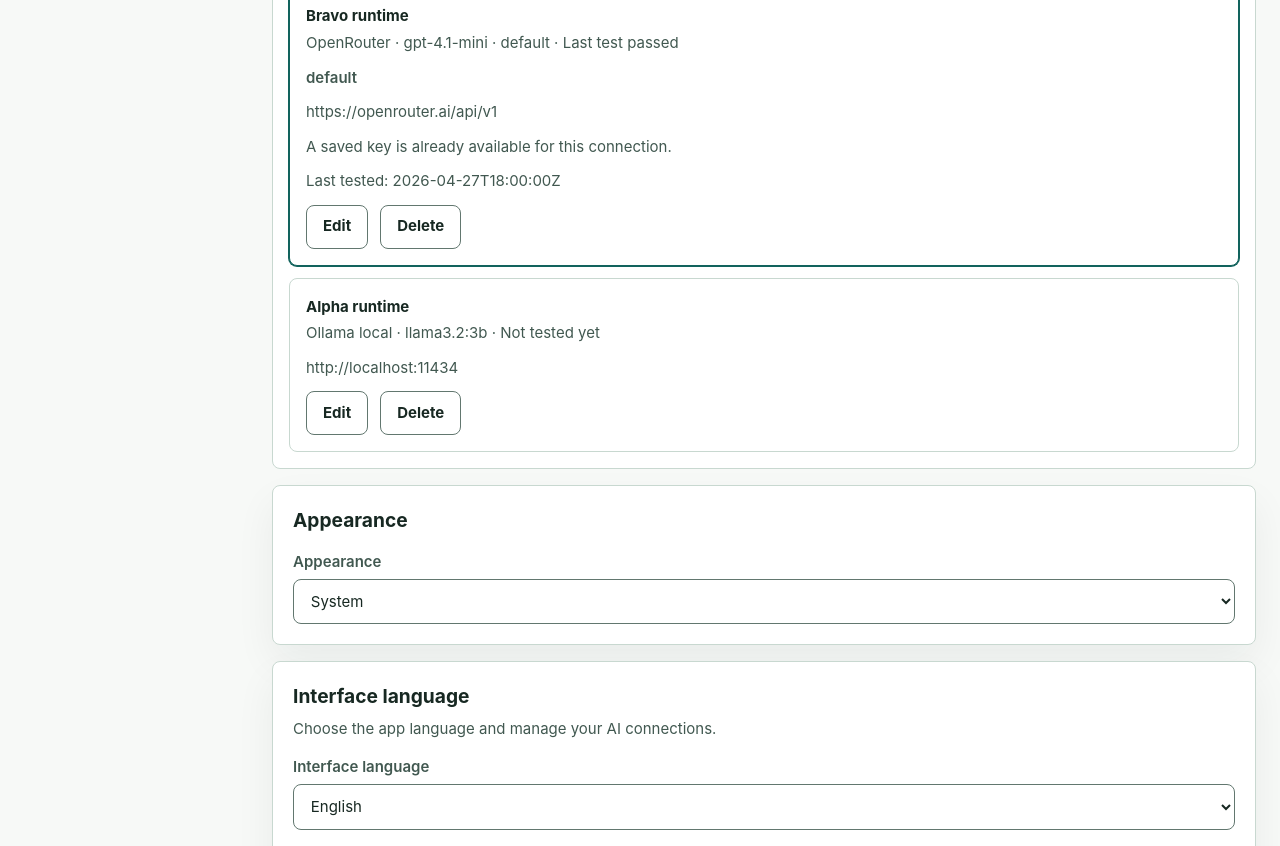
Scenario: Settings route › edits a chosen connection in Setup and returns to Settings after saving
The image size is (1280, 846).
(page scrolled)
Click the button with test id "settings.connection_row_edit" below "http://localhost:11434" at (337, 413), box [306, 391, 368, 435]
(page scrolled)
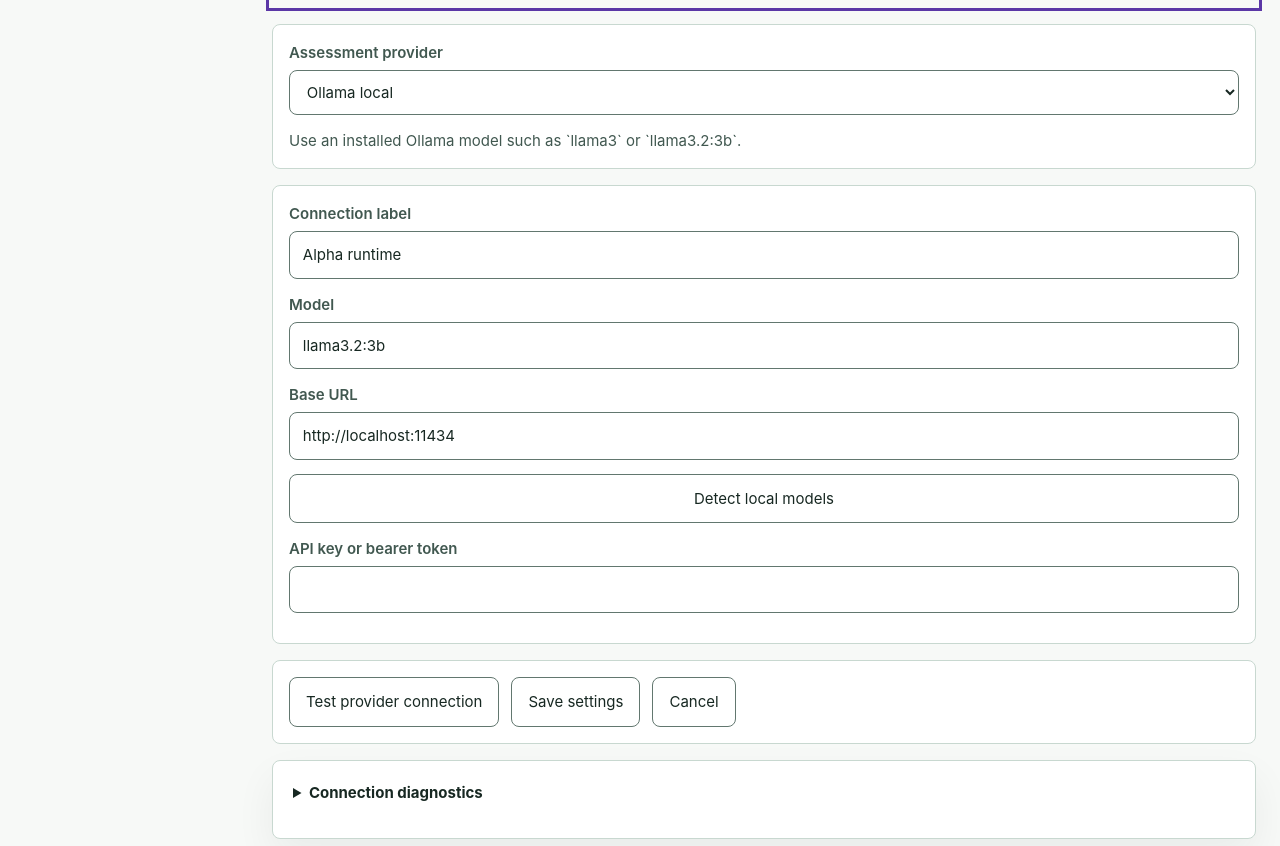
Result: the dropdown with test id "runtime_connection.provider" shows "Ollama local" at [289, 70, 1239, 115]
Replace the text in the field with test id "runtime_connection.model" with "new-local-model" at (764, 345), box [289, 322, 1239, 369]
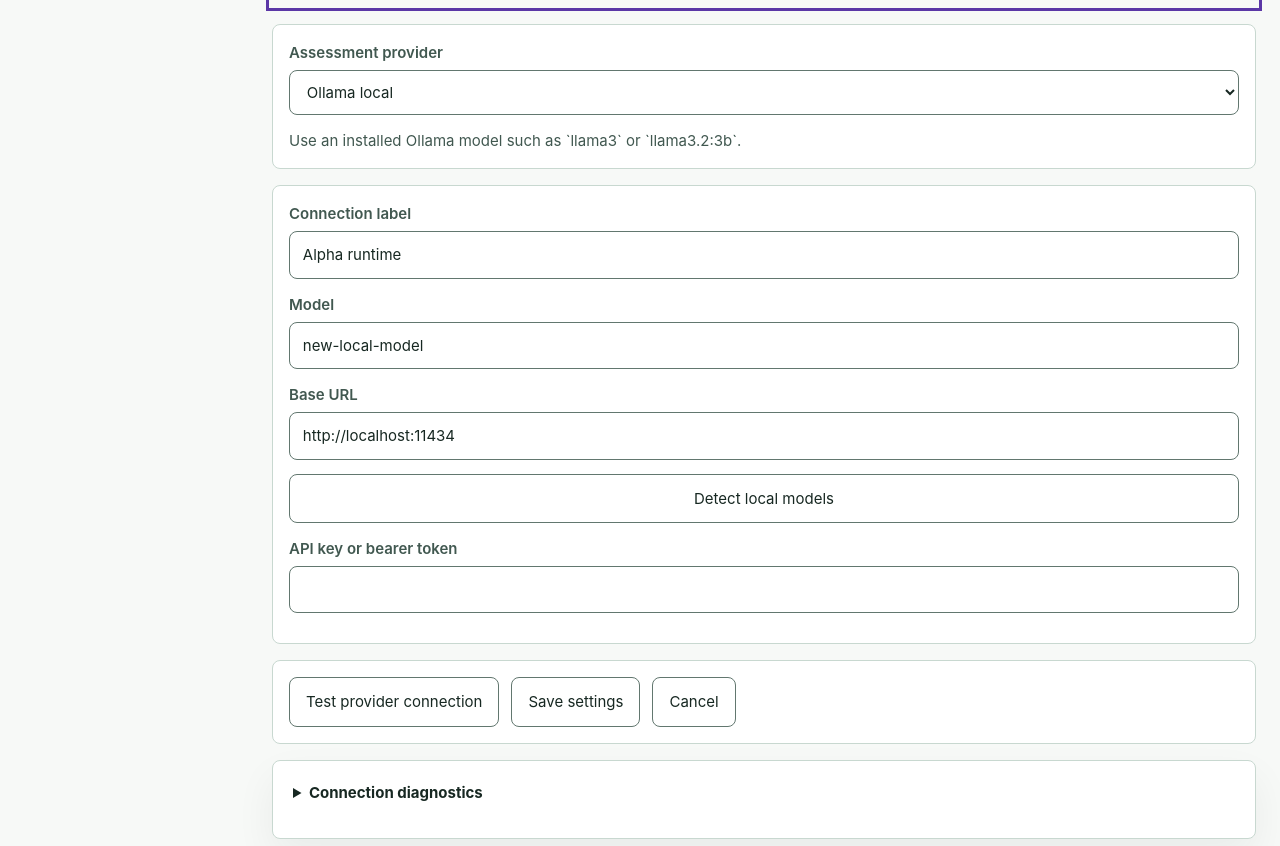
Click the button with test id "runtime_connection.save_connection" at (576, 702), box [512, 677, 640, 727]
(page scrolled)
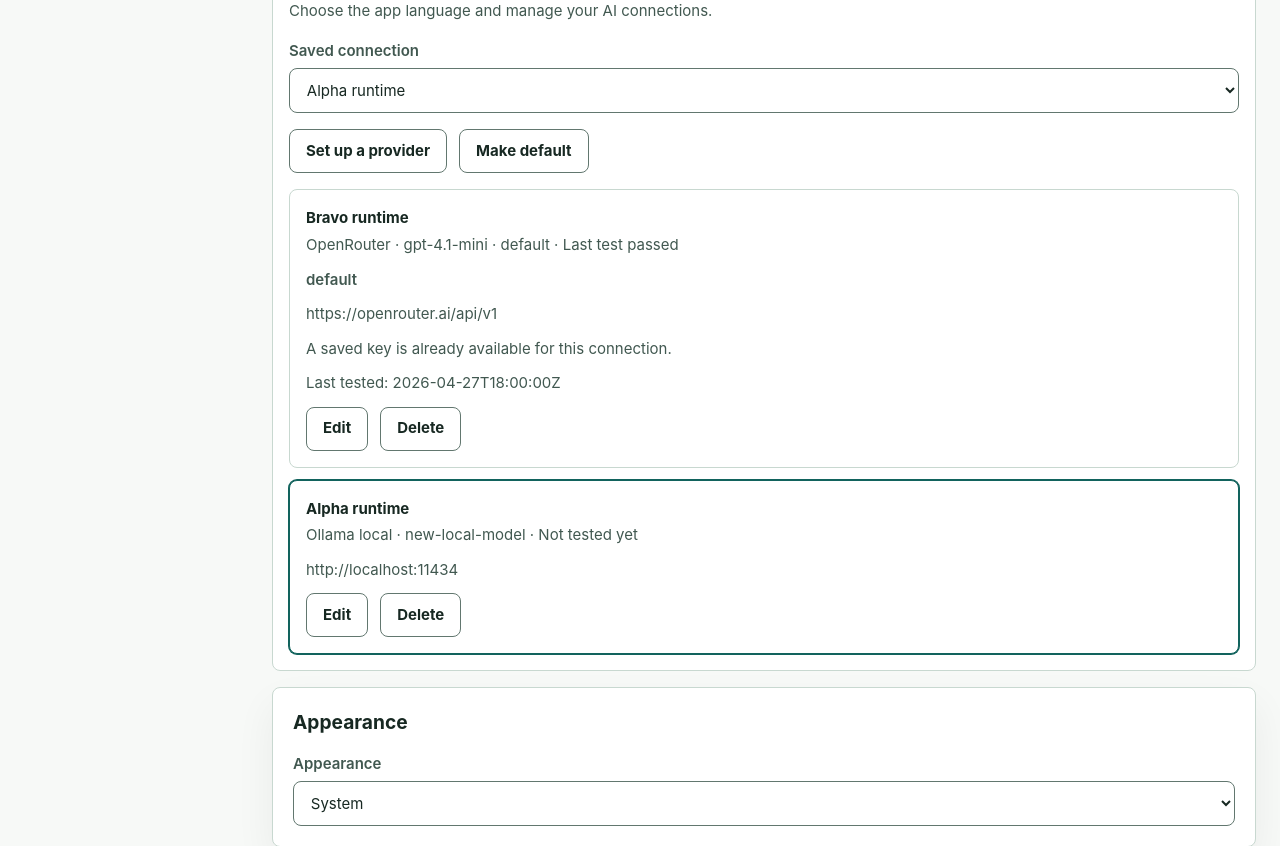
Result: the dropdown with test id "settings.connection_id" shows "Alpha runtime" at [289, 68, 1239, 113]
